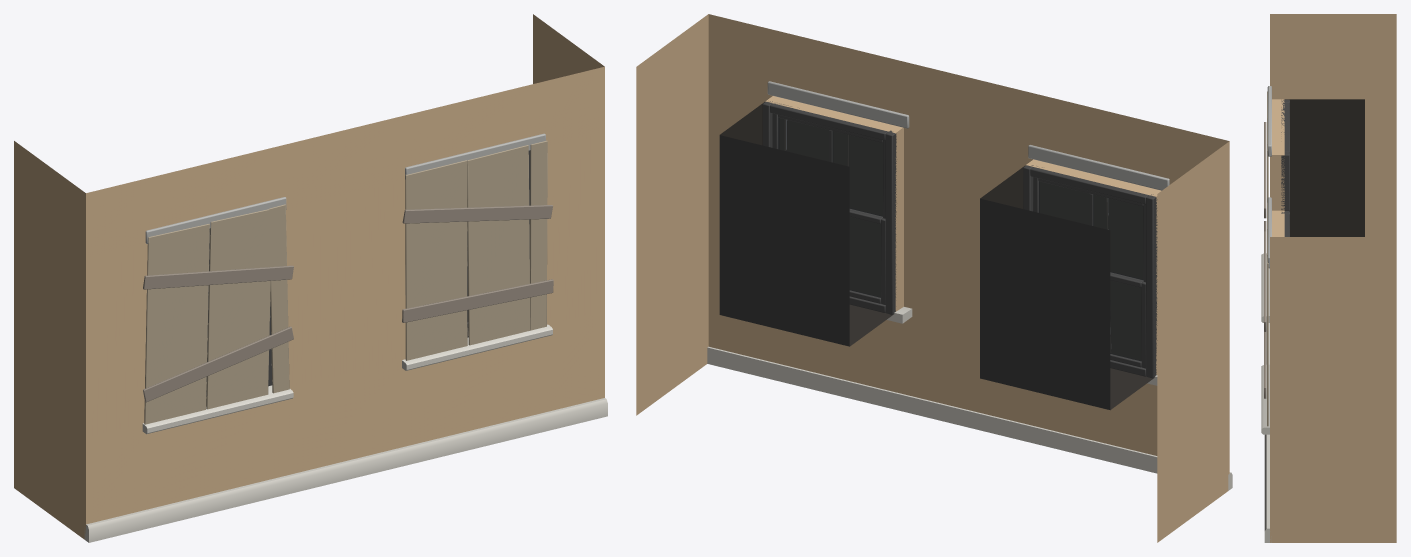
File: upper_5d.glb
The picture shows the model from 3 angles, left to right: view 1: azimuth 30°, elevation 25°; view 2: azimuth 150°, elevation 25°; view 3: azimuth 270°, elevation 25°; orthographic projection. The views are drawn at different scales.
Visible parts, largest first — view 1: upper_5d; view 2: upper_5d; view 3: upper_5d.
Boxes of the visible parts, bbox=[...] form: upper_5d: bbox=[14, 14, 607, 542]; upper_5d: bbox=[636, 14, 1232, 542]; upper_5d: bbox=[1261, 14, 1396, 542].
Size of the model in its own units: 5 by 3.2 by 1.28.
